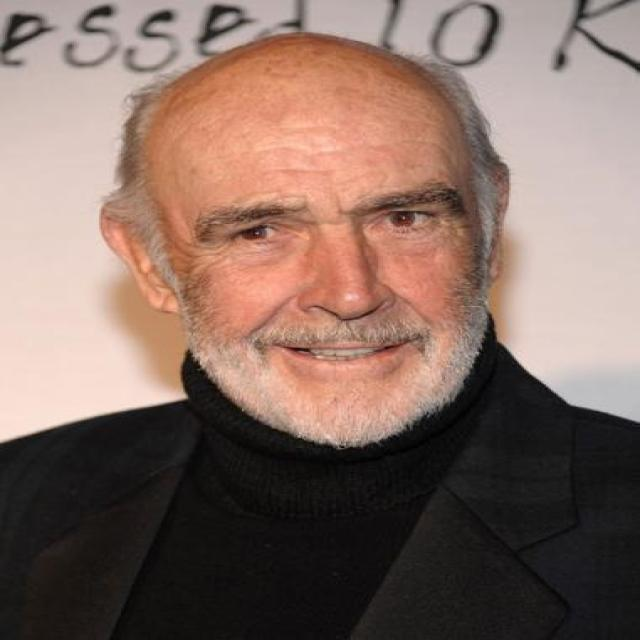0_rostro_limpio: (103, 32, 508, 446)
